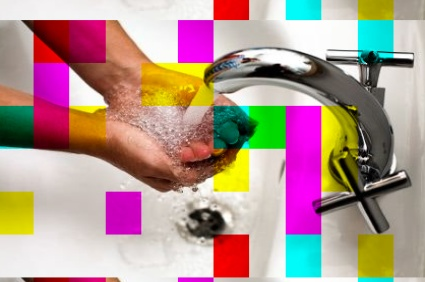washing hand: (57, 38, 387, 255)
